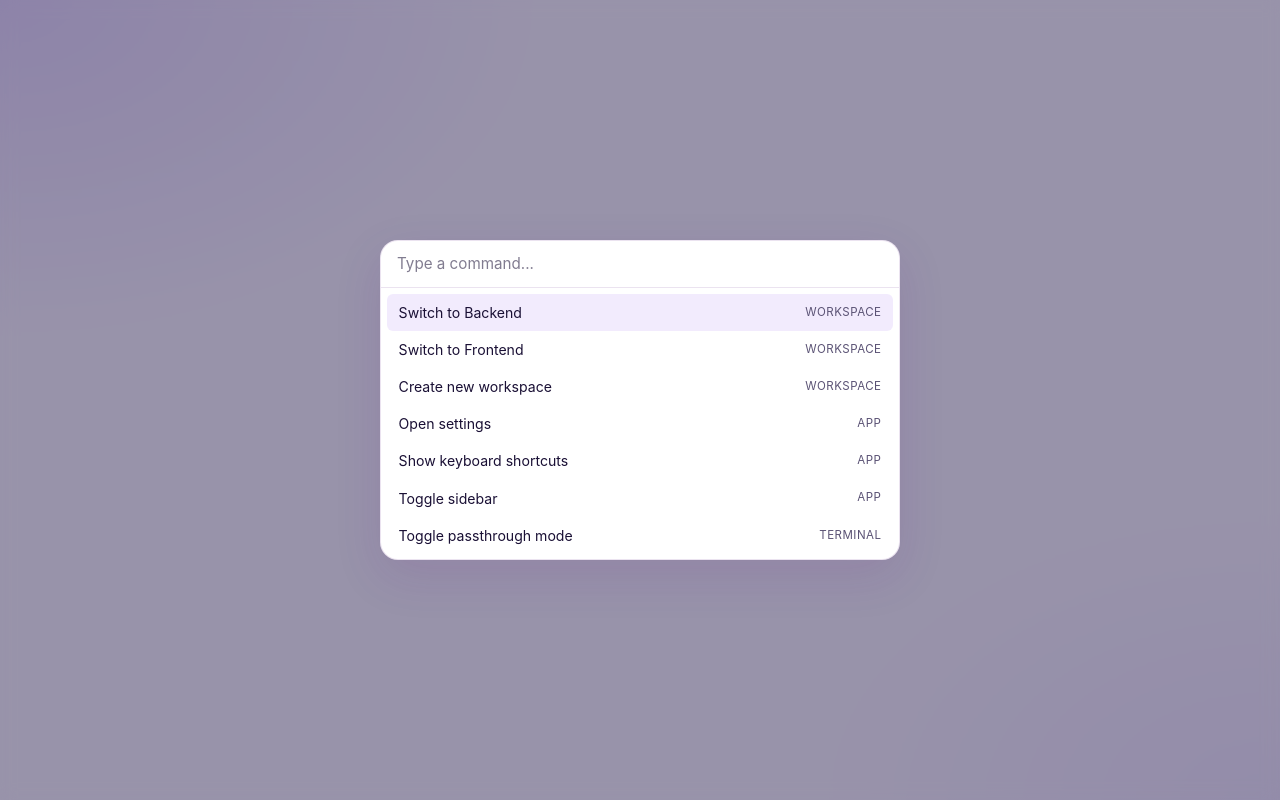
CommandPalette › filters commands by search query
The image size is (1280, 800).
Type "settings" into the field named "Search commands".
click(640, 264); type("settings")  # box [381,241,899,288]
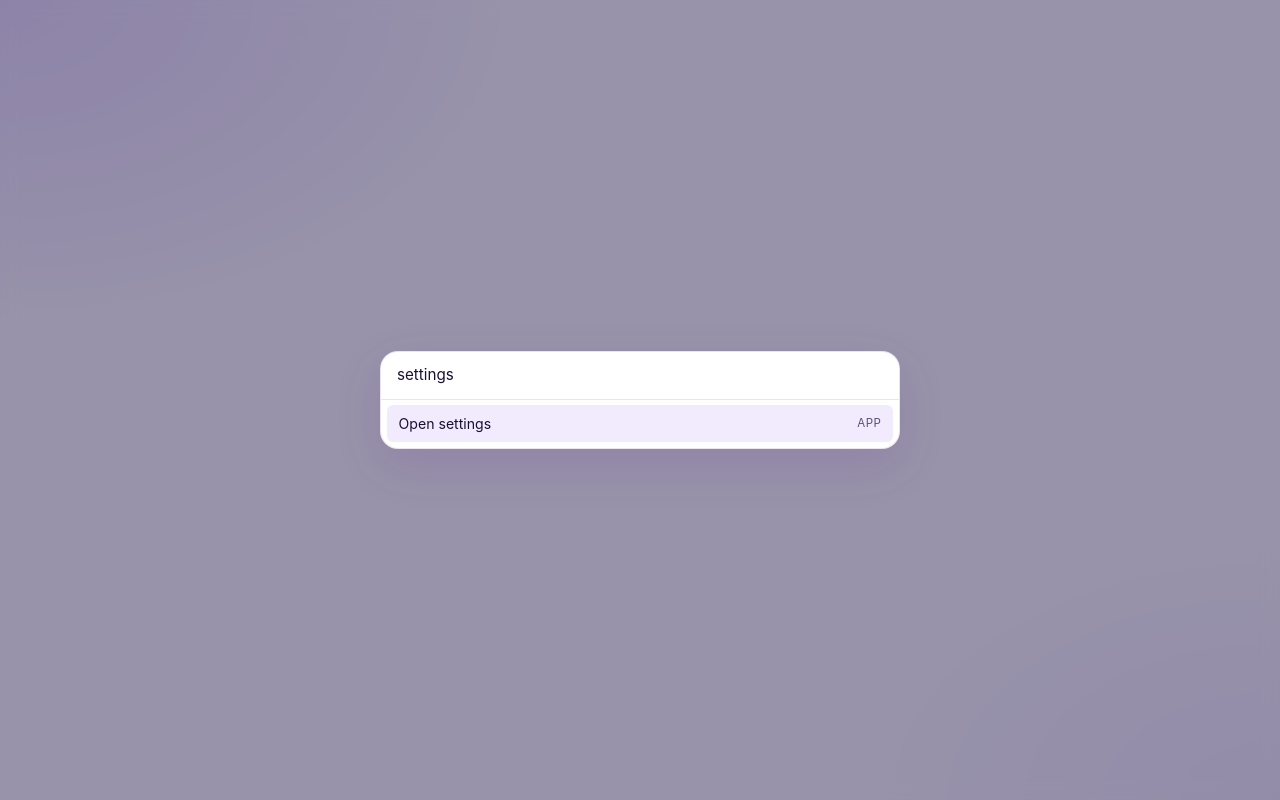
Expected: the text "Open settings" is shown, [399,413,491,434]
Result: the option "Switch to Backend" is gone
